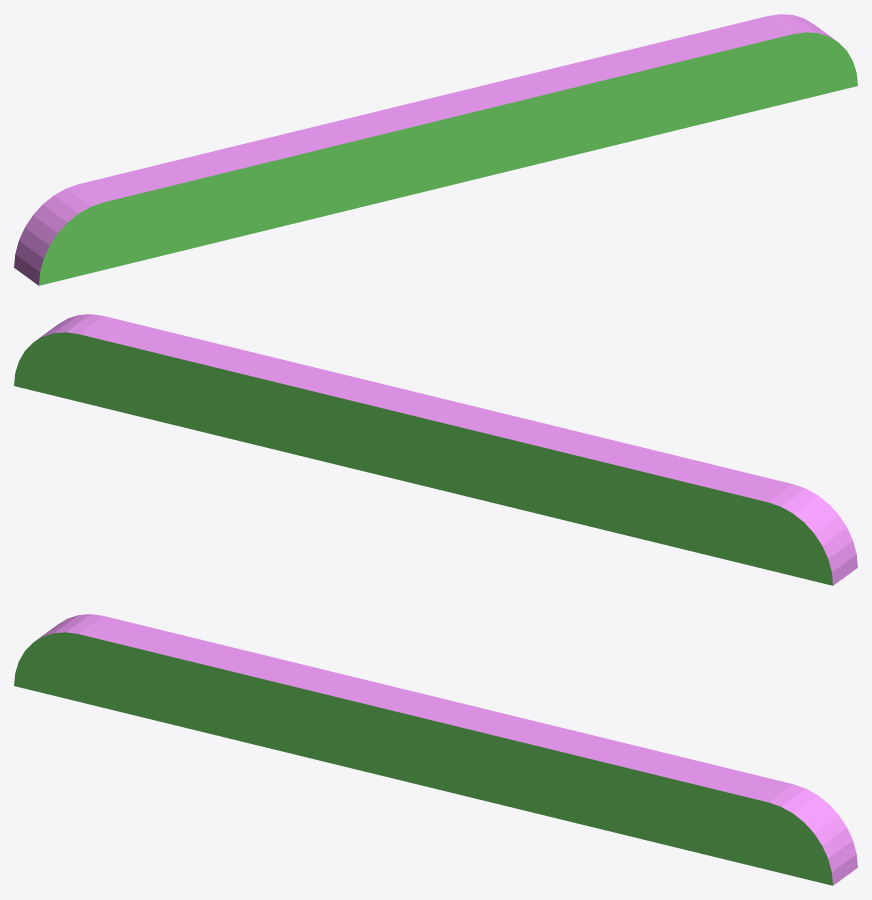
The model's file is ThrowableHalfWall.fbx.
3 views of the same model, one above another, from view 1: azimuth 30°, elevation 25°; view 2: azimuth 150°, elevation 25°; view 3: azimuth 330°, elevation 25° (orthographic).
Visible parts, largest first — view 1: ThrowableHalfWall; view 2: ThrowableHalfWall; view 3: ThrowableHalfWall.
Boxes of the visible parts, bbox=[...] form: ThrowableHalfWall: bbox=[14, 14, 857, 285]; ThrowableHalfWall: bbox=[14, 314, 857, 585]; ThrowableHalfWall: bbox=[14, 614, 857, 885].
Bounding box in the file's own units: 9.5 × 0.75 × 0.5.
